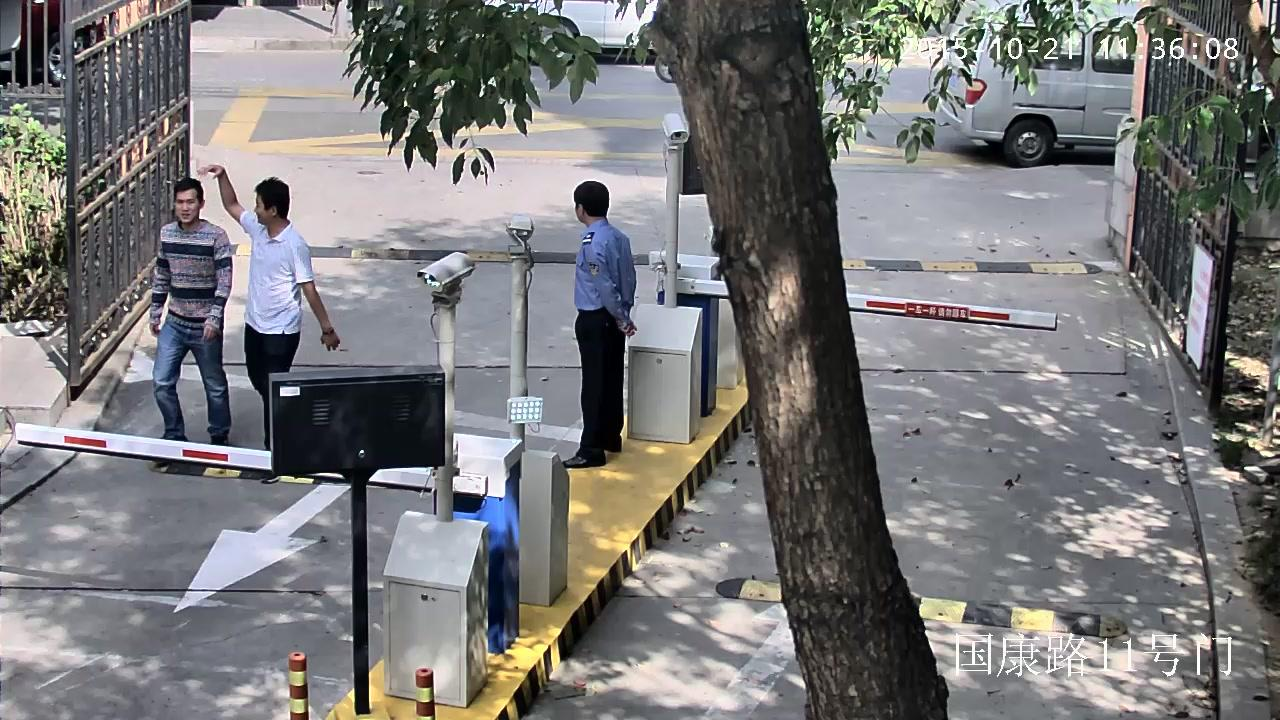person: (197, 165, 339, 450), (148, 178, 231, 444), (562, 181, 637, 468)
